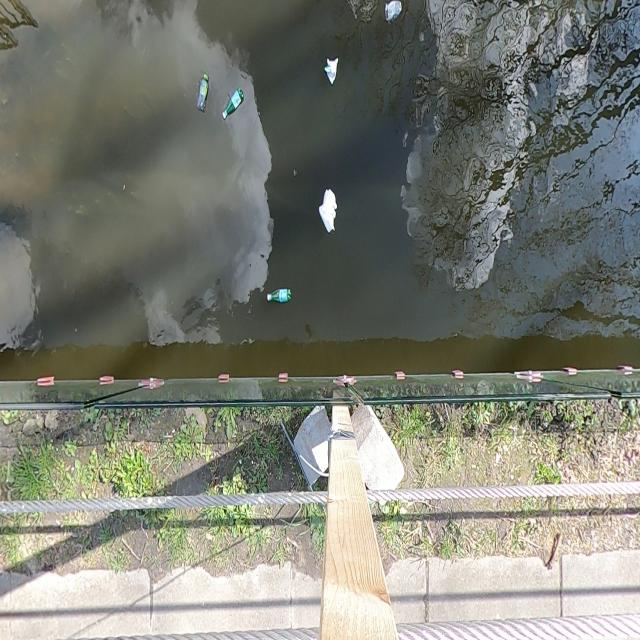Autre plastique: (317, 184, 342, 241), (383, 0, 404, 27)
Bouteille plastique: (221, 86, 248, 123), (194, 71, 212, 116), (266, 286, 292, 311)
